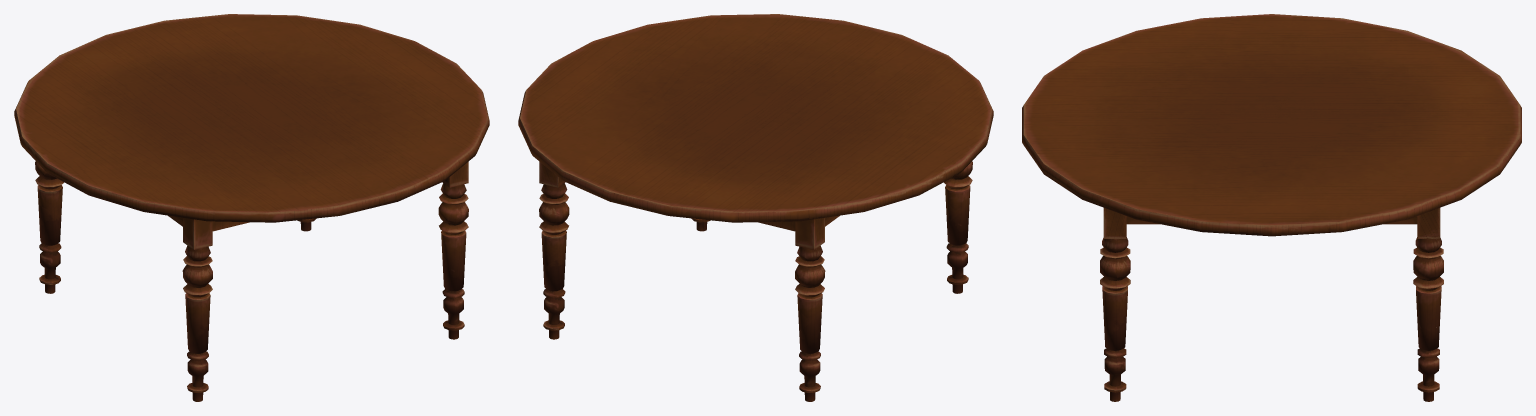
Rendered from tablemangay_shatter.fbx.
3 views of the same model, side by side, from view 1: azimuth 30°, elevation 25°; view 2: azimuth 150°, elevation 25°; view 3: azimuth 270°, elevation 25° (orthographic). The views are drawn at different scales.
Parts seen in each view (by area): view 1: Pieces_3, Pieces_2_5, Pieces_1_2, Pieces_3_3, Pieces_3_6, Pieces_3_4, Pieces_1, Pieces_1_6, Pieces_1_4, Pieces_2_3, Pieces_2_2; view 2: Pieces_3, Pieces_2_5, Pieces_1_2, Pieces_2_6, Pieces_2, Pieces_3_4, Pieces_3_5, Pieces_3_3, Pieces_2_2; view 3: Pieces_3, Pieces_2_5, Pieces_1_2, Pieces_3_5, Pieces_3_6, Pieces_1_5, Pieces_1_6, Pieces_2_3, Pieces_2_6, Pieces_1_3, Pieces_2_4.
Boxes of the visible parts, box(x1,y1,x2,y2) form: Pieces_3: box(14, 42, 413, 249); Pieces_2_5: box(90, 14, 425, 124); Pieces_1_2: box(270, 47, 489, 194); Pieces_3_3: box(186, 313, 208, 401); Pieces_3_6: box(442, 251, 464, 339); Pieces_3_4: box(38, 205, 61, 293); Pieces_1: box(186, 260, 212, 327); Pieces_1_6: box(442, 198, 468, 264); Pieces_1_4: box(38, 171, 63, 219); Pieces_2_3: box(438, 183, 467, 245); Pieces_2_2: box(182, 245, 211, 307); Pieces_3: box(680, 19, 993, 249); Pieces_2_5: box(518, 83, 770, 216); Pieces_1_2: box(533, 14, 831, 101); Pieces_2_6: box(539, 183, 569, 256); Pieces_2: box(795, 245, 825, 318); Pieces_3_4: box(799, 311, 821, 401); Pieces_3_5: box(543, 249, 565, 339); Pieces_3_3: box(946, 203, 969, 293); Pieces_2_2: box(944, 161, 972, 210); Pieces_3: box(1022, 14, 1512, 153); Pieces_2_5: box(1238, 95, 1521, 232); Pieces_1_2: box(1026, 120, 1328, 236); Pieces_3_5: box(1417, 319, 1439, 401); Pieces_3_6: box(1104, 319, 1126, 401); Pieces_1_5: box(1413, 249, 1440, 330); Pieces_1_6: box(1100, 249, 1127, 330); Pieces_2_3: box(1101, 237, 1130, 303); Pieces_2_6: box(1414, 237, 1443, 304); Pieces_1_3: box(1103, 208, 1159, 238); Pieces_2_4: box(1384, 208, 1440, 238).
Size of the model in its own units: 68.98 by 32.17 by 68.28.
Materials: 2 (1 with a texture image).
